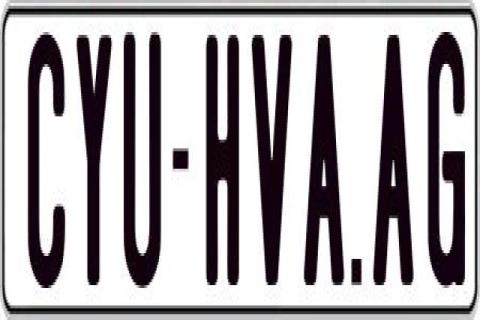A: (371, 32, 414, 294), (301, 32, 341, 300)
C: (27, 35, 68, 288)
G: (427, 32, 465, 291)
H: (204, 35, 242, 291)
U: (124, 24, 165, 294)
V: (248, 26, 294, 291)
Y: (75, 35, 114, 297)
